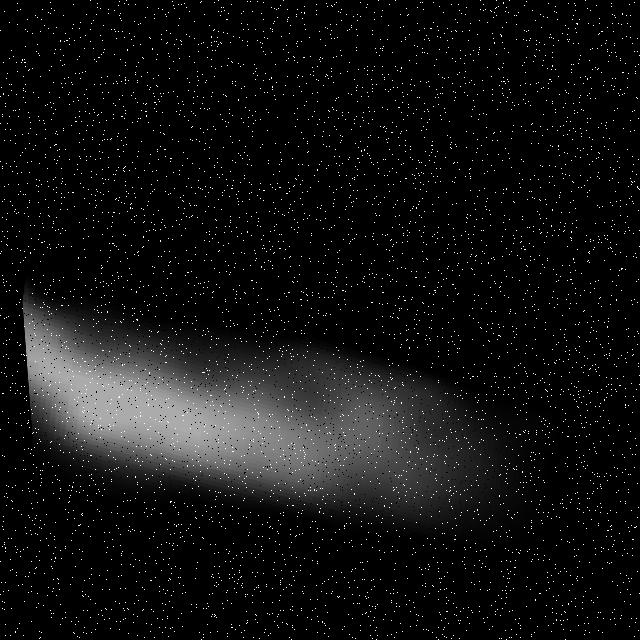person: (15, 244, 579, 589)
